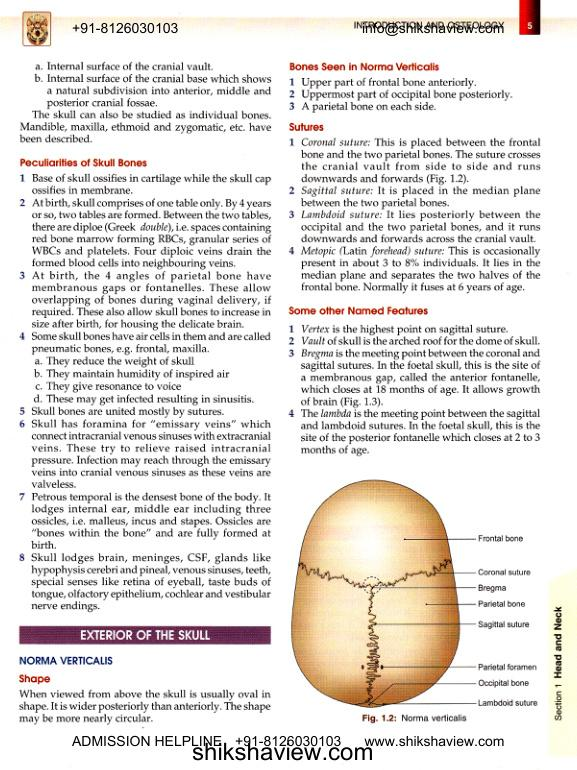caption: (361, 713, 468, 725)
image: (282, 471, 545, 711)
list: (17, 171, 273, 614), (287, 136, 542, 295), (287, 323, 542, 457), (34, 60, 273, 109), (287, 75, 514, 114)
section-heading: (79, 629, 211, 642)
sub-section-heading: (287, 60, 443, 73), (287, 305, 429, 316), (19, 156, 148, 168), (17, 654, 113, 667), (287, 121, 325, 132), (18, 673, 51, 685)
text: (17, 687, 272, 726), (19, 109, 273, 144)
